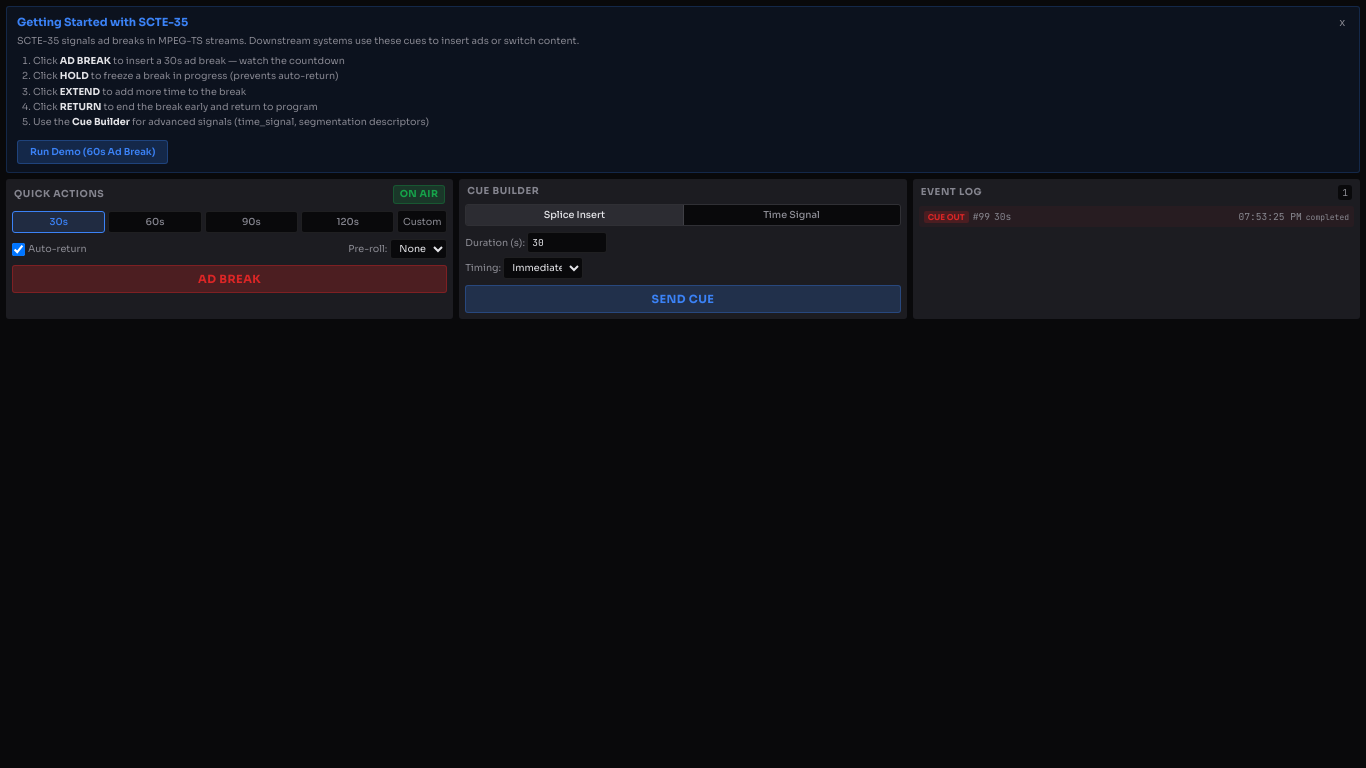
Test: SCTE35Panel › opens event detail flyout when log item clicked
What coordinates should you click on to do the following:
click the button with class "log-item-btn"
I would click on:
 (946, 217)
Its box is [919, 206, 1354, 227].
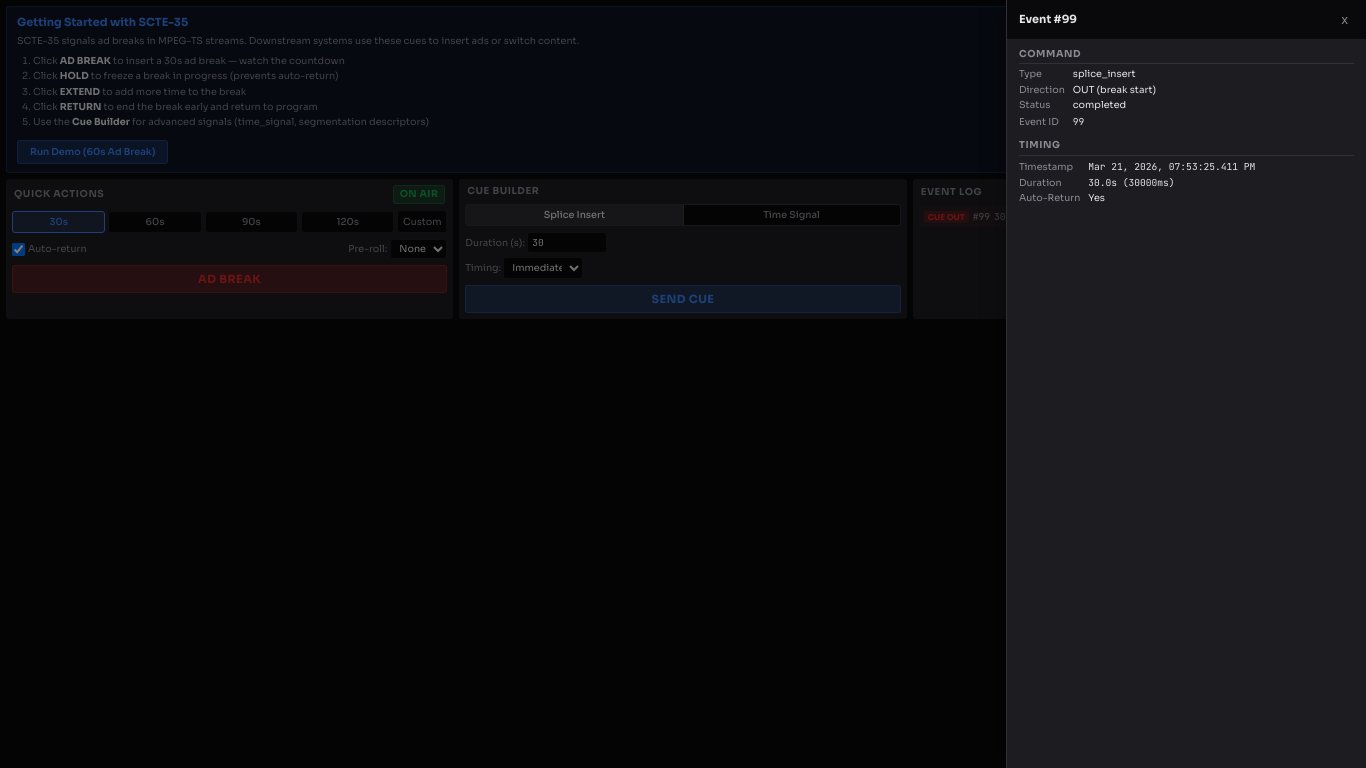
Expected: the element with class "detail-flyout" is shown, [1006, 0, 1365, 767]
Expected: the element with class "detail-flyout" shows "Event #99", [1019, 12, 1077, 26]
Expected: the element with class "detail-flyout" shows "splice_insert", [1073, 68, 1136, 80]
